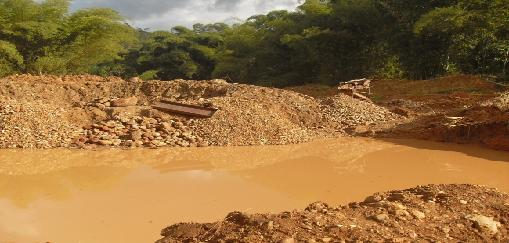ProcessingEquiment: (155, 97, 217, 121), (337, 78, 375, 105)
